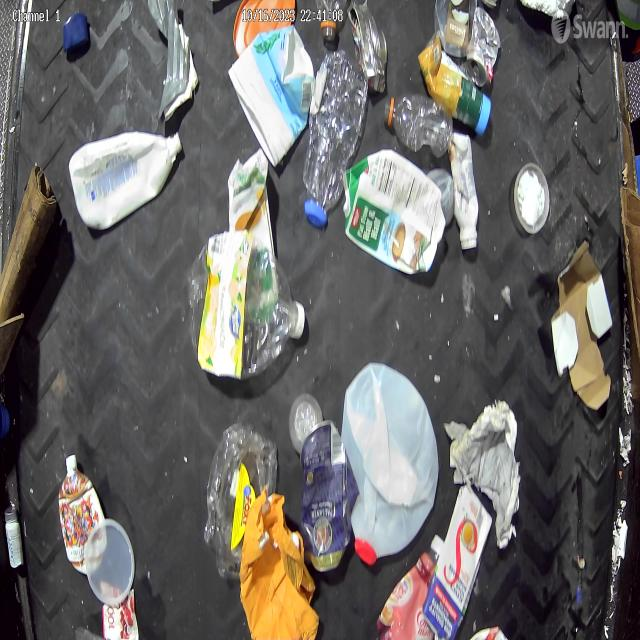can: (301, 419, 354, 572), (350, 1, 390, 93), (464, 2, 502, 88)
milk_jug: (344, 359, 440, 568), (68, 129, 184, 231)
non_white_jug: (342, 150, 454, 276), (378, 537, 452, 640), (58, 454, 105, 575)
plastic_bottle: (192, 231, 307, 382), (302, 52, 366, 222), (384, 92, 452, 154)
